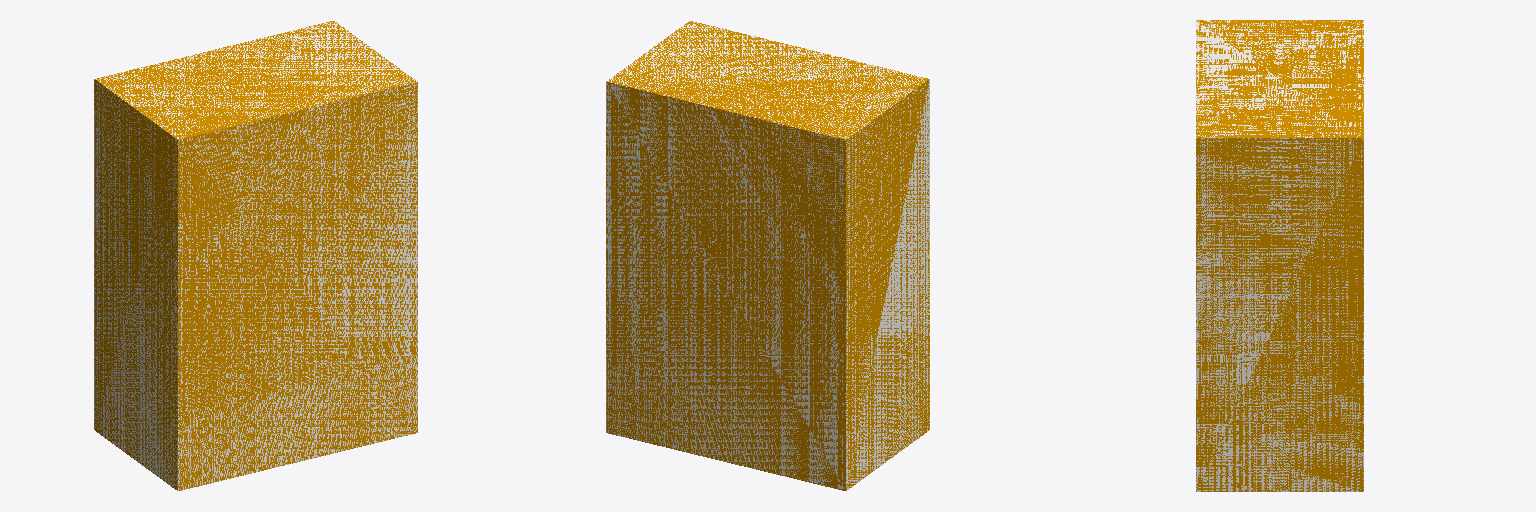
The robot description file, URDF, robot "my_object":
<?xml version="1.0" ?> 
<robot name="my_object" static="true">
  <link name="base_link">
  <inertial>
    <mass value="1.964" />
    <origin xyz="0 0 0.0"/>
    <inertia ixx="1.0" ixy="0.0" ixz="0.0" iyy="1.0" iyz="0.0" izz="1.0"/>
  </inertial>
  <visual>
   <origin xyz="0 0 0.0" rpy="0 0 -1.570796" />
   <geometry>
     <mesh filename="package://cob_gazebo_objects/Media/models/block_of_4_books_from_library.dae"/>
   </geometry>
  </visual>
  <collision>
   <origin xyz="0 0 0" rpy="0 0 0" />
   <geometry>
     <box size="0.15 0.09 0.21" />
   </geometry>
  </collision>     
  </link>

<gazebo>
	<static>true</static>
</gazebo>
</robot>

--- Render facts (derived) ---
3 views of the same robot in one strip: view 1: azimuth 30°, elevation 25°; view 2: azimuth 150°, elevation 25°; view 3: azimuth 270°, elevation 25° (orthographic).
Robot: my_object — 1 links, 0 joints (none); root link base_link; default pose: every joint at zero.
Visible links, largest first — view 1: base_link; view 2: base_link; view 3: base_link.
Link boxes in pixels (x1,y1,x2,y2): base_link: [94, 21, 417, 490]; base_link: [606, 21, 929, 490]; base_link: [1196, 20, 1363, 491].
Size in the robot's own frame: 0.0038 by 0.0023 by 0.0053 metres.
1 mesh visuals loaded from 1 distinct referenced files (1 Collada DAE).